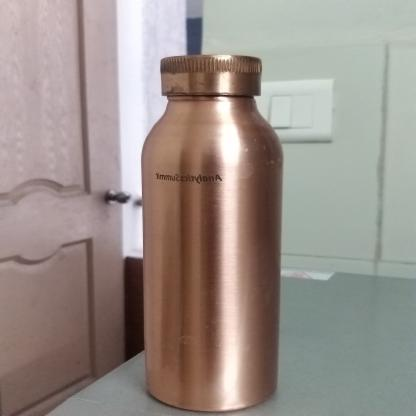bottle: (137, 53, 286, 414)
